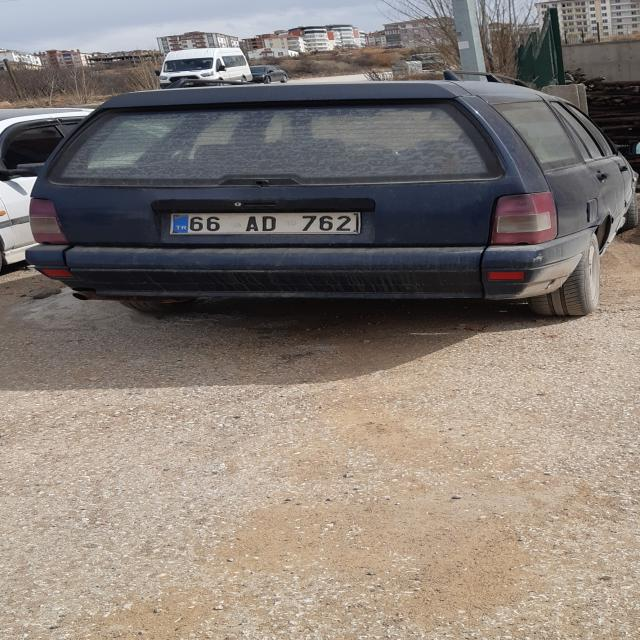plate: (170, 212, 358, 234)
